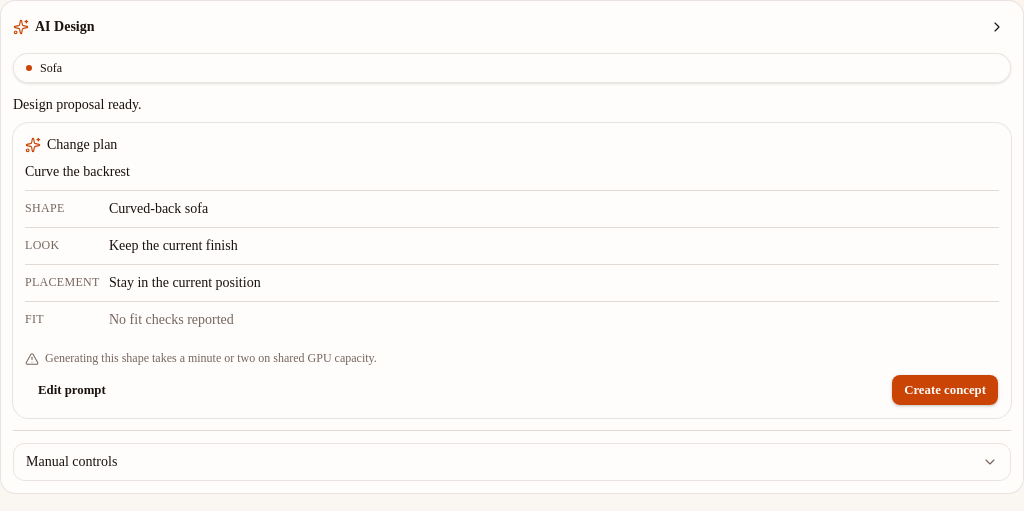
Scenario: AIDesignStudio › shows a plan-ready AIChangePlanCard once the latest turn has a change plan, then progresses to concept_ready after Confirm
Expected: the text "Curved-back sofa" is shown, [109,201,208,216]
Click the button "Create concept". click: (945, 390)
box: [891,374,999,406]
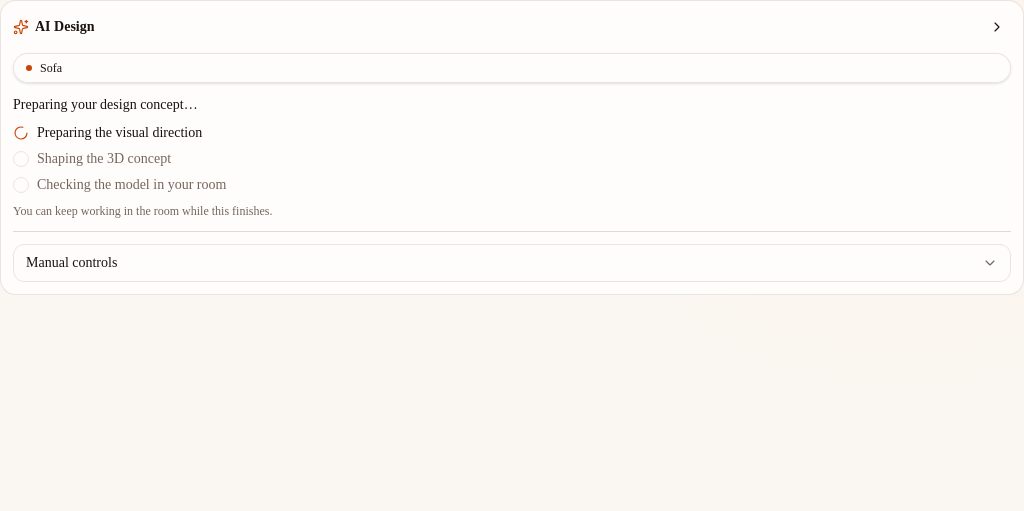
Now the text "Preparing the visual direction" is shown, box [37,123,202,143]
